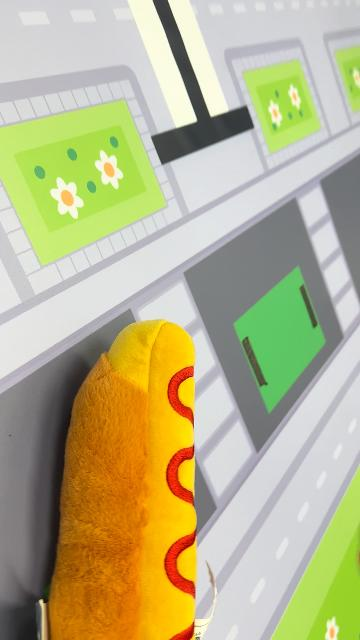hotdog: (47, 317, 200, 638)
